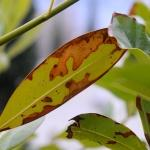late_blight: (50, 29, 124, 103), (25, 105, 58, 122), (42, 97, 51, 101)
